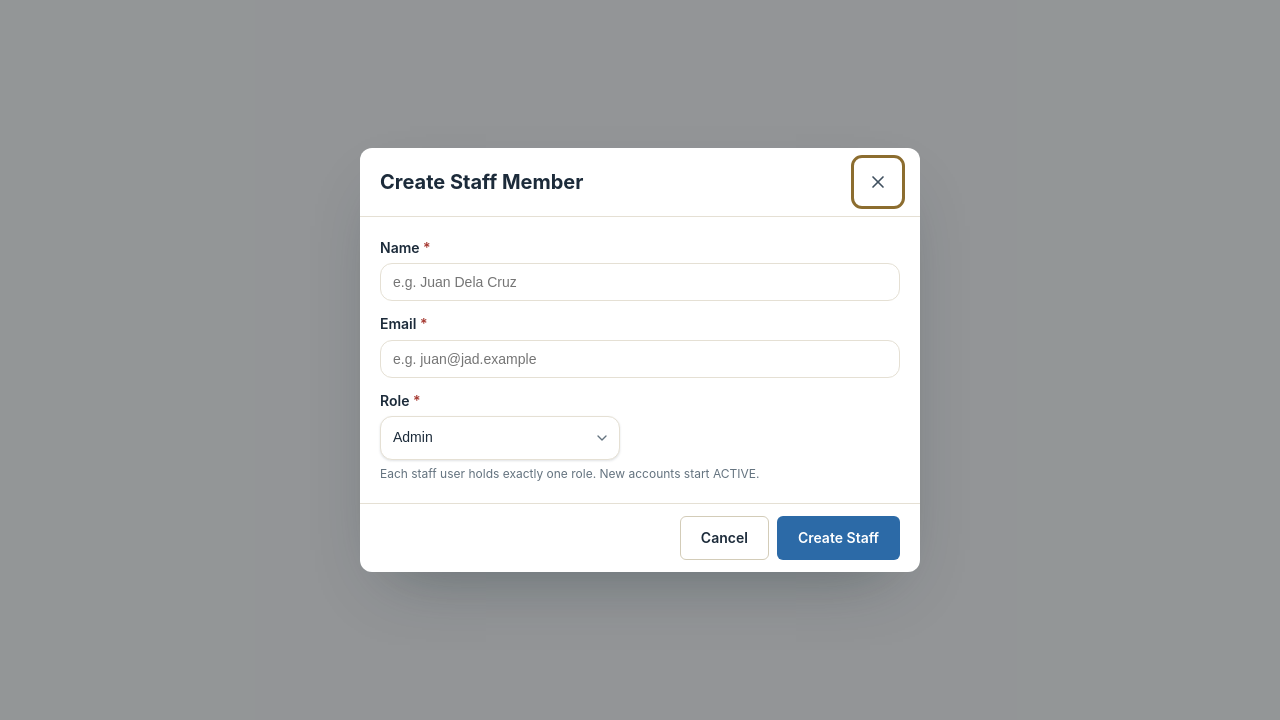
Scenario: StaffFormDialog › requires name and email
Click the button "Create Staff". click: point(838, 538)
box: x1=777 y1=516 x2=900 y2=560
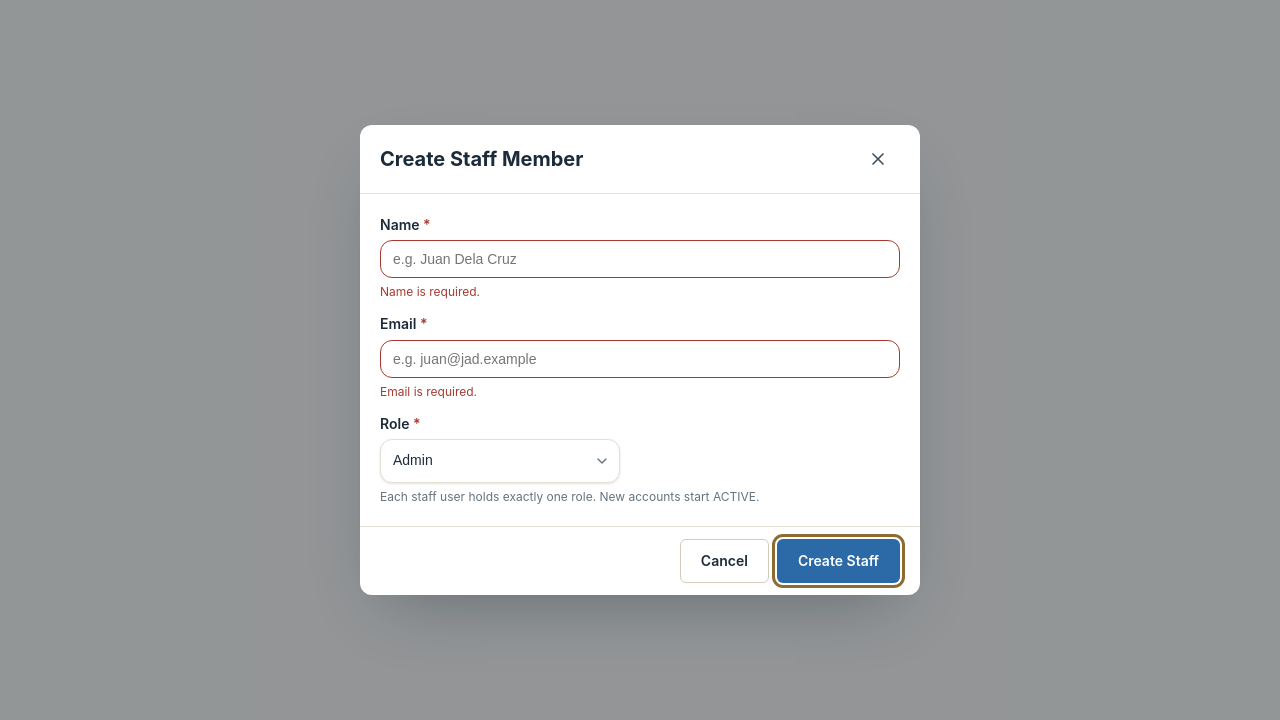
Check: the text "Name is required." is shown, box x1=380 y1=284 x2=480 y2=299
Check: the text "Email is required." is shown, box x1=380 y1=384 x2=477 y2=399
